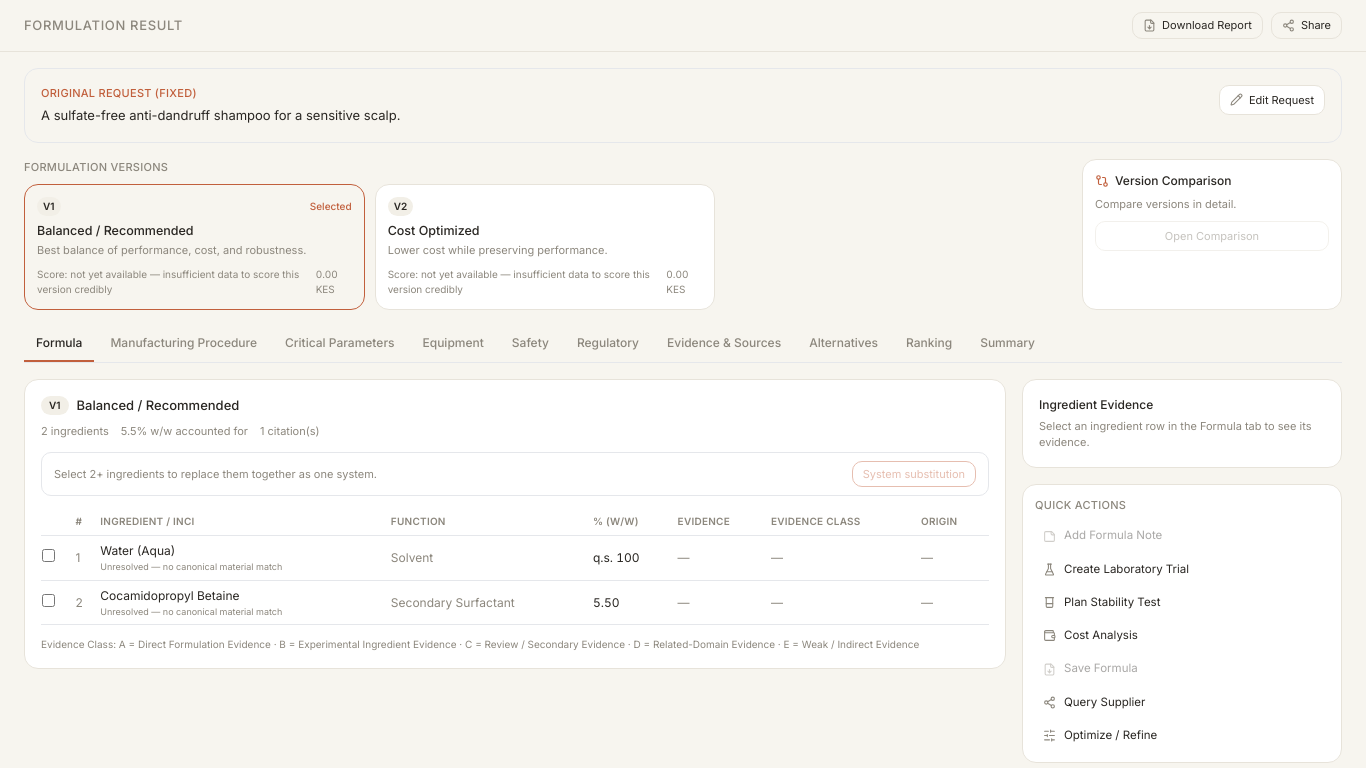
Scenario: FormulationResultPage › selecting an ingredient row opens the evidence panel scoped to that ingredient's real concentration
Expected: the text "Cocamidopropyl Betaine" is shown, x1=100 y1=588 x2=240 y2=603
Click the cell that starts with "Cocamidopropyl Betaine" at (170, 595), box x1=99 y1=580 x2=390 y2=625
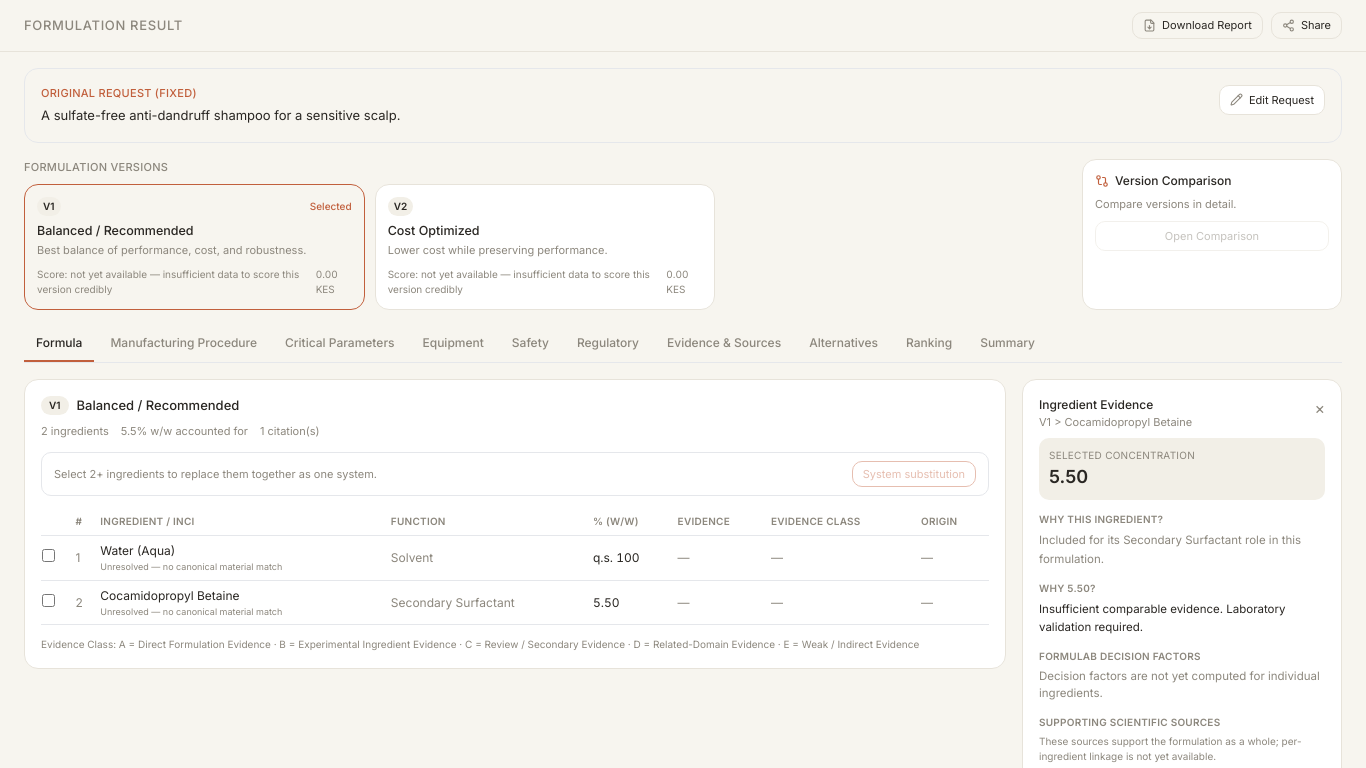
Result: the text "Selected Concentration" is shown at x1=1049 y1=449 x2=1195 y2=461
